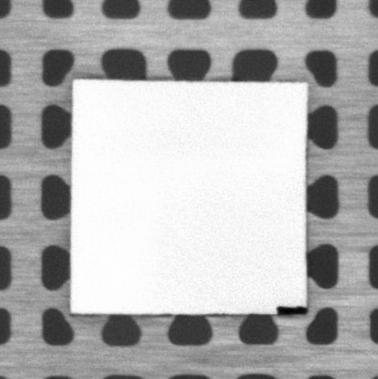DIE_BROKEN: (275, 304, 308, 315)
